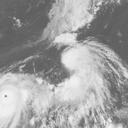cyclone: (58, 38, 104, 97), (1, 75, 25, 127)
